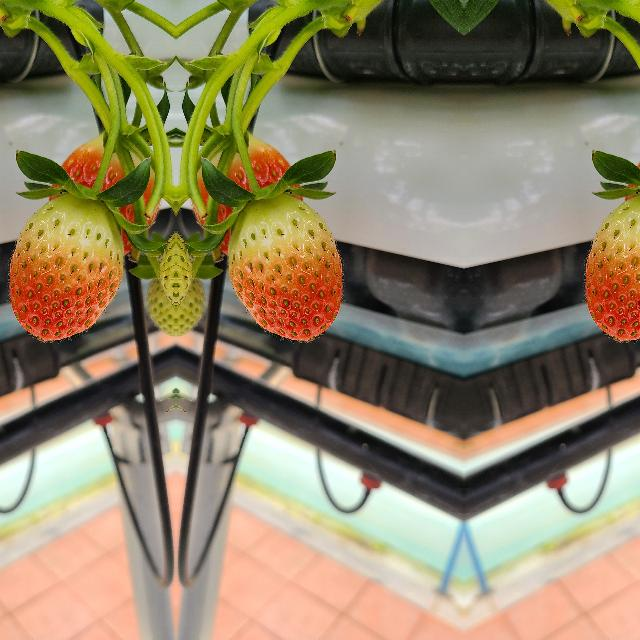Health_75: (227, 194, 341, 340), (9, 194, 123, 340), (585, 194, 640, 340)
